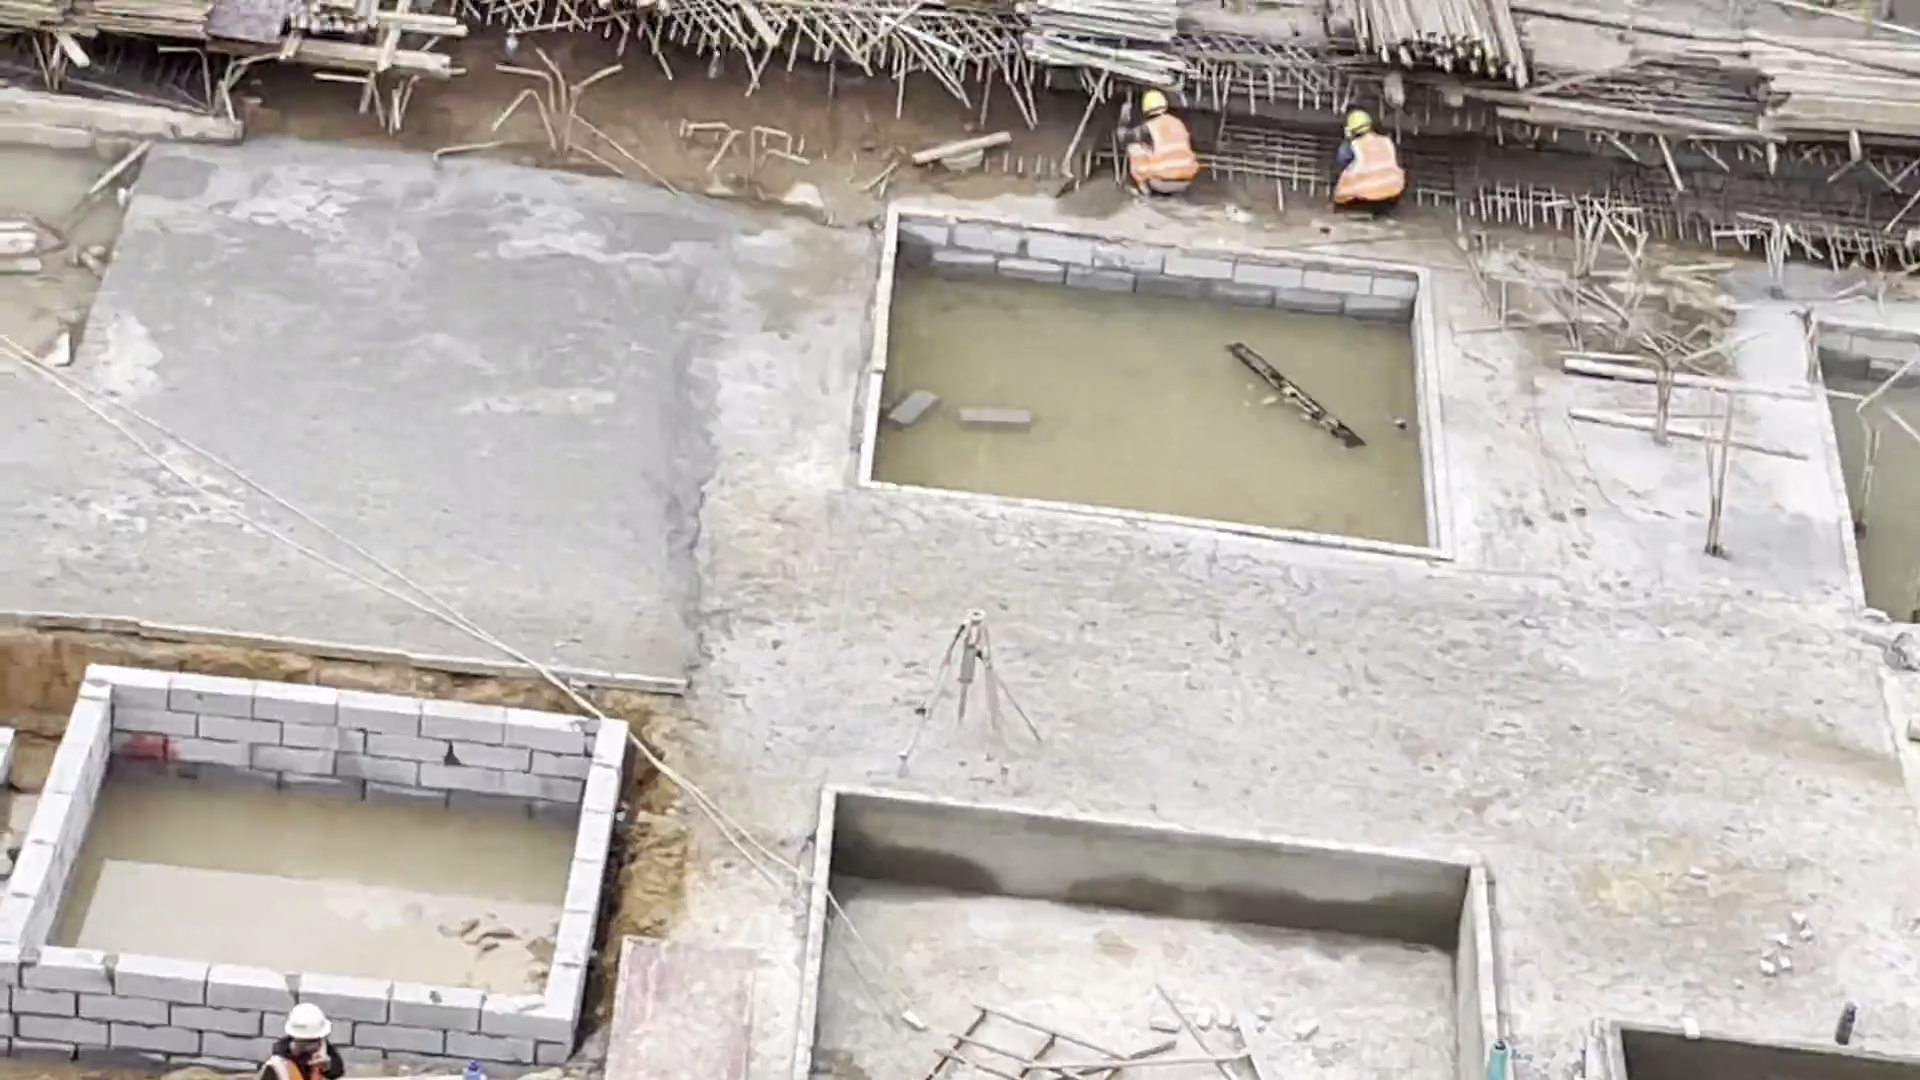helmet: (280, 1002, 339, 1040), (1142, 88, 1167, 112), (1348, 110, 1371, 133)
person: (1115, 89, 1198, 204), (1331, 111, 1405, 218), (255, 1000, 350, 1080)
vest: (1132, 117, 1204, 190), (1337, 137, 1398, 197), (262, 1050, 332, 1079)
